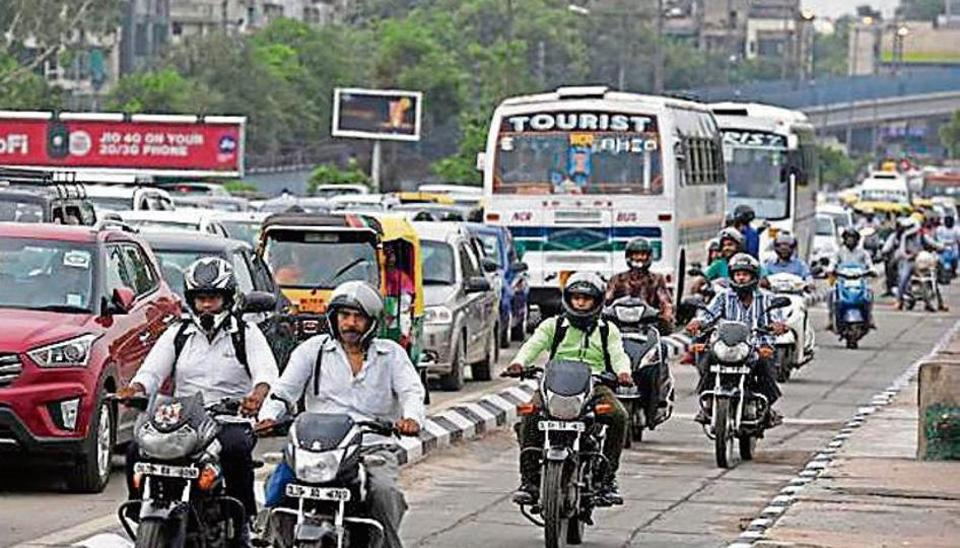plate: (132, 457, 207, 484), (287, 484, 354, 508), (703, 357, 756, 379), (532, 418, 587, 435)
tw: (497, 361, 624, 548), (260, 400, 398, 548), (140, 384, 252, 548), (689, 308, 779, 469), (828, 259, 877, 353)
